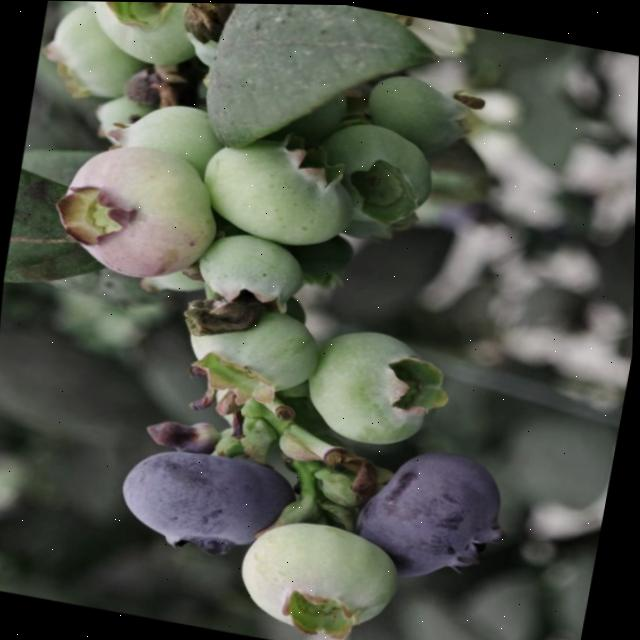RipeBlueBerry: (330, 421, 541, 613), (109, 429, 320, 579), (230, 503, 428, 640)
Semi-RipeBlueBerry: (35, 132, 229, 299), (182, 119, 386, 274), (291, 314, 480, 466)
